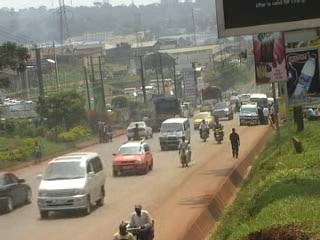Car: (110, 138, 154, 180), (0, 169, 36, 214), (124, 119, 155, 142), (209, 99, 236, 124), (191, 109, 217, 133)
Motorcycle: (174, 138, 193, 170), (198, 121, 212, 145), (211, 121, 225, 144)
